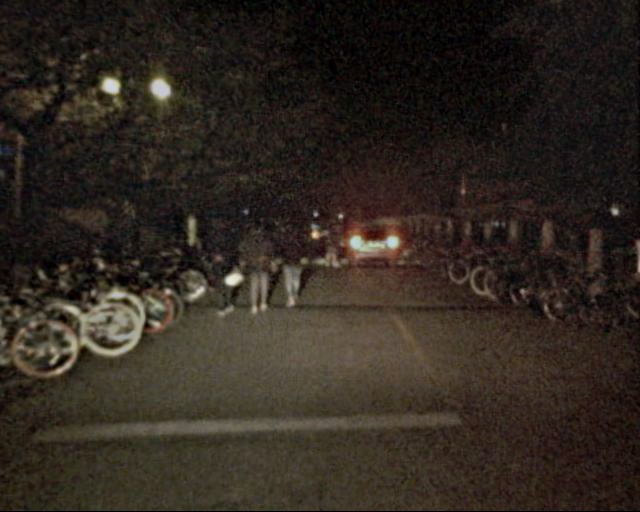person: (207, 214, 241, 317), (245, 222, 274, 316), (280, 214, 307, 308), (323, 219, 344, 269)
